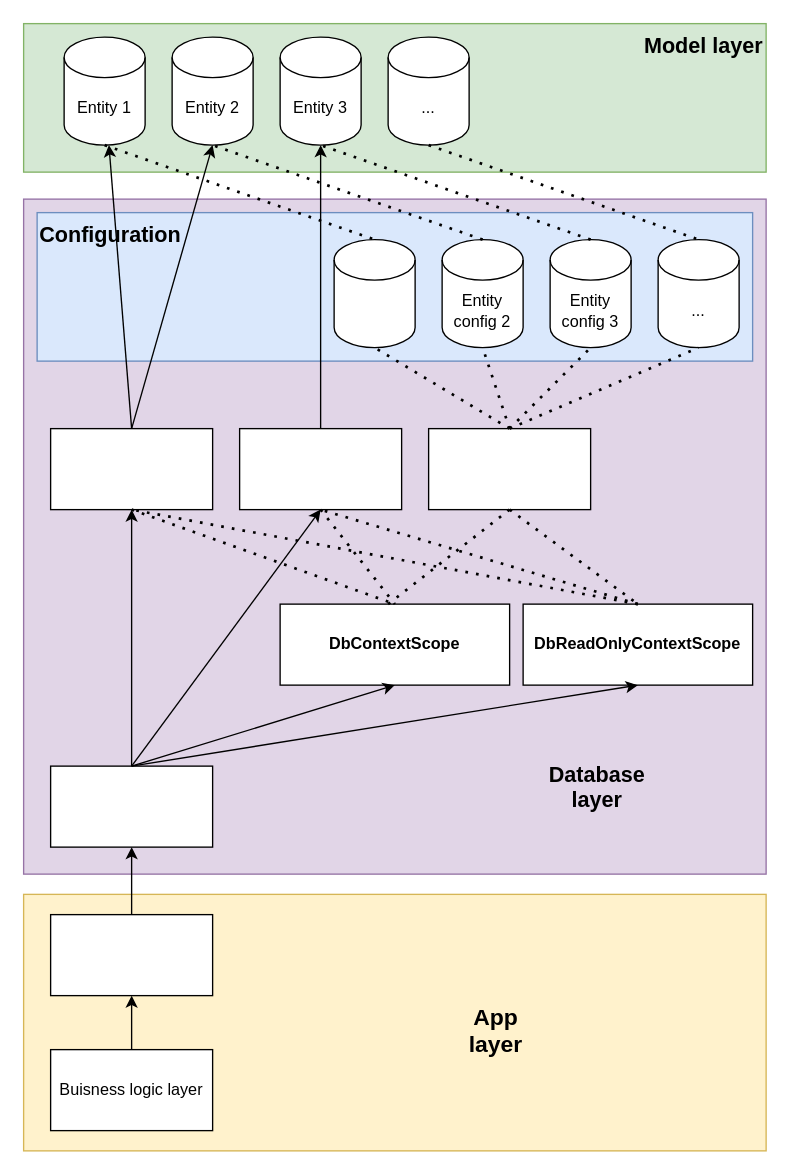
The diagram is 790 pixels wide and 1175 high, and some of its shapes have lost their labels. Each missing label, with the centre of its shape:
"Entity config 1" goes at point (374, 293).
"IDbContextFactory" goes at point (509, 468).
"IRepository" goes at point (131, 468).
"IRepositoryGuid" goes at point (320, 468).
"IUnitOfWork" goes at point (131, 806).
"Service layer" goes at point (131, 954).
